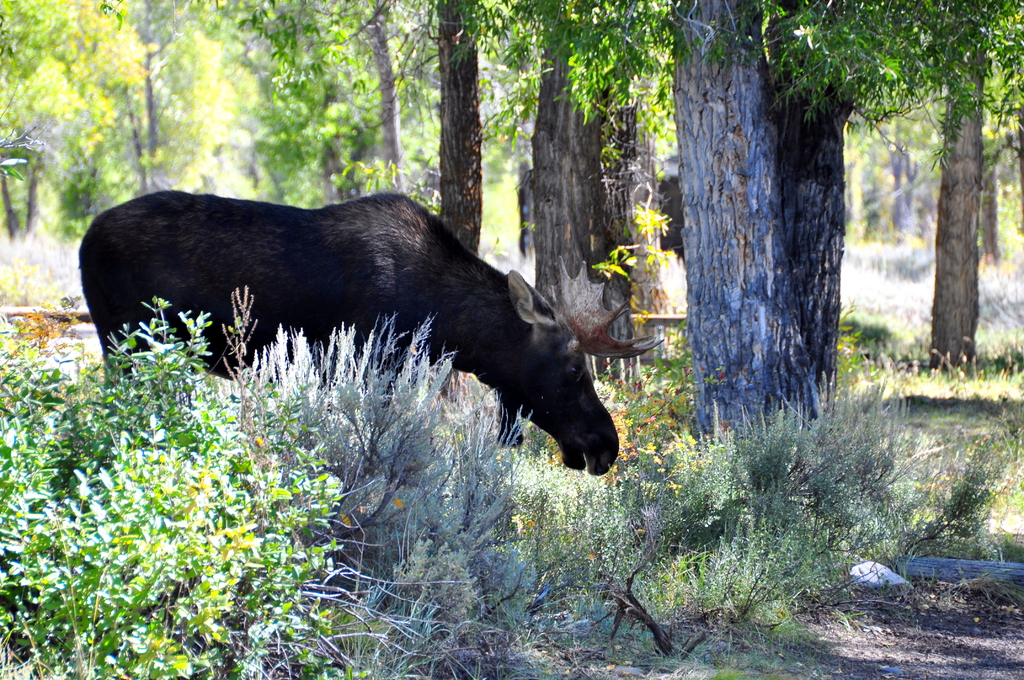Tree: (0, 0, 1024, 473)
